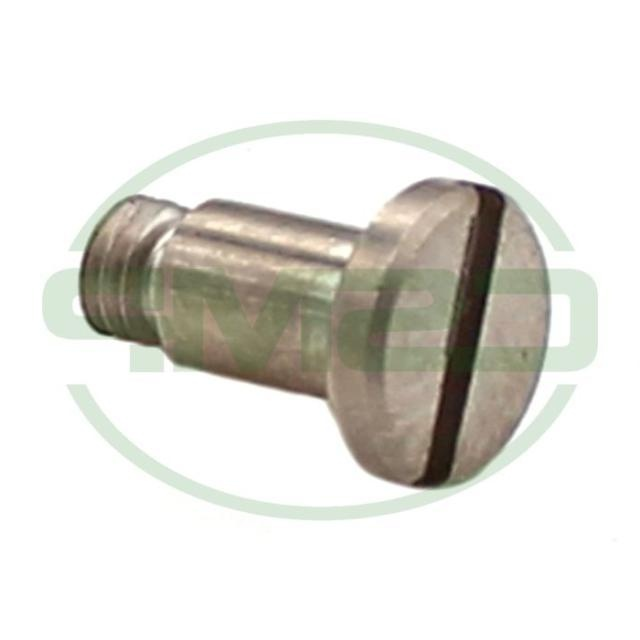duz: (333, 175, 555, 492)
